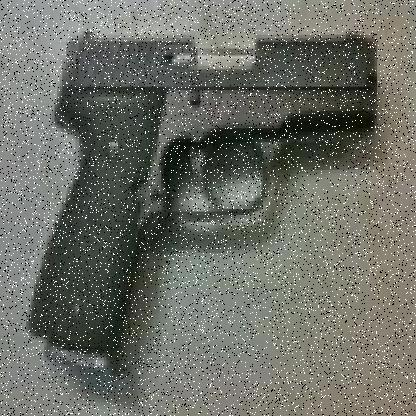pistol: (36, 24, 377, 367)
